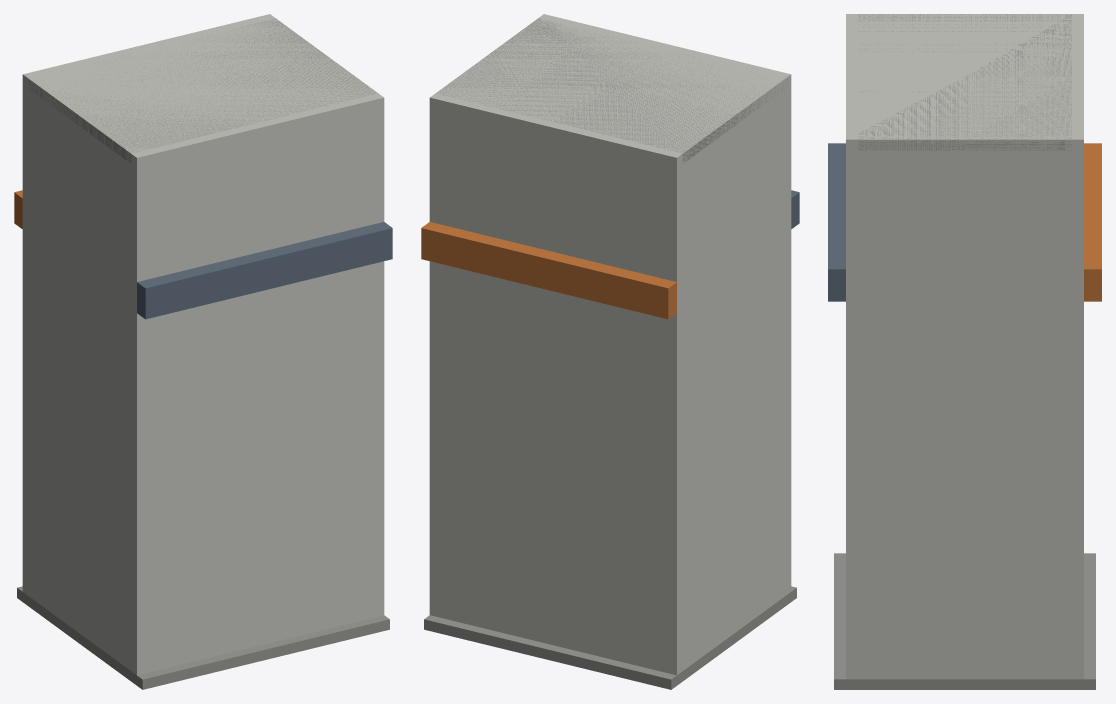
The model's file is pride_monorail.obj.
3 views of the same model, side by side, from view 1: azimuth 30°, elevation 25°; view 2: azimuth 150°, elevation 25°; view 3: azimuth 270°, elevation 25° (orthographic). The views are drawn at different scales.
Parts seen in each view (by area): view 1: RAIL_BASE, RAIL_RIGHT; view 2: RAIL_BASE, RAIL_LEFT; view 3: RAIL_BASE, RAIL_LEFT, RAIL_RIGHT.
Part boxes in pixels (x1=…): RAIL_BASE: x1=17, y1=14, x2=389, y2=689; RAIL_RIGHT: x1=137, y1=222, x2=392, y2=319; RAIL_BASE: x1=424, y1=14, x2=796, y2=689; RAIL_LEFT: x1=421, y1=222, x2=676, y2=319; RAIL_BASE: x1=834, y1=14, x2=1095, y2=689; RAIL_LEFT: x1=1084, y1=143, x2=1101, y2=301; RAIL_RIGHT: x1=828, y1=143, x2=845, y2=301.
Size of the model in its own units: 1 by 2.04 by 0.92.
Materials: 1 (1 with a texture image).
